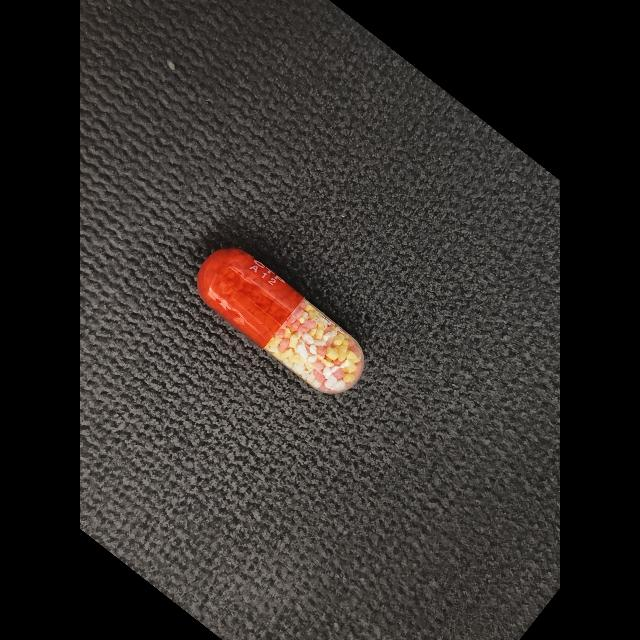Intact Capsule: (197, 248, 365, 394)
